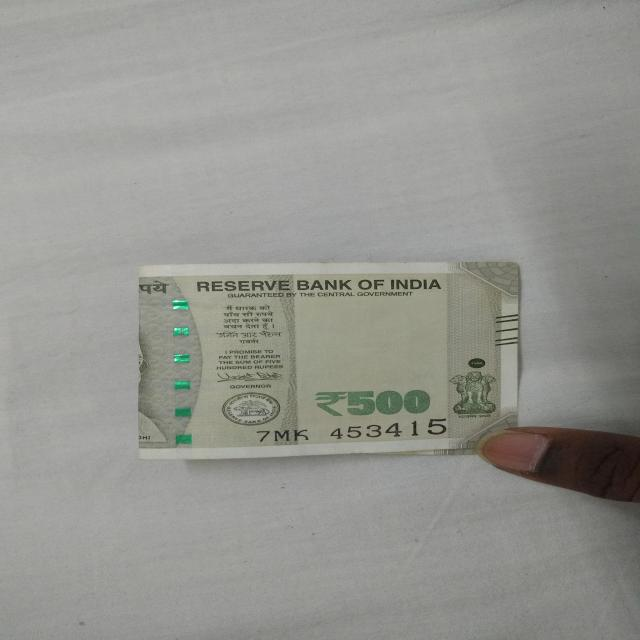Currency: (135, 267, 481, 451)
